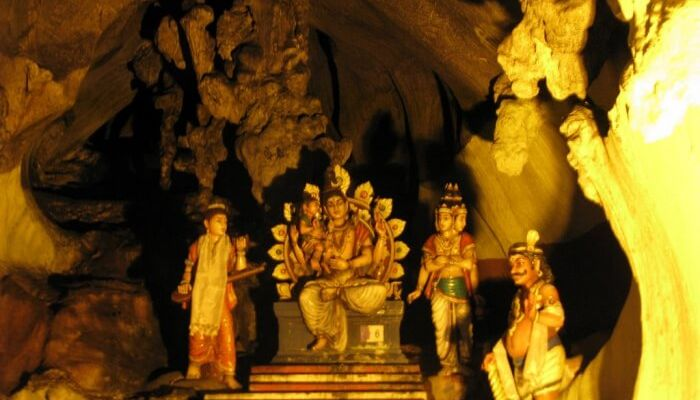Hindu Temple: (188, 169, 487, 369)
